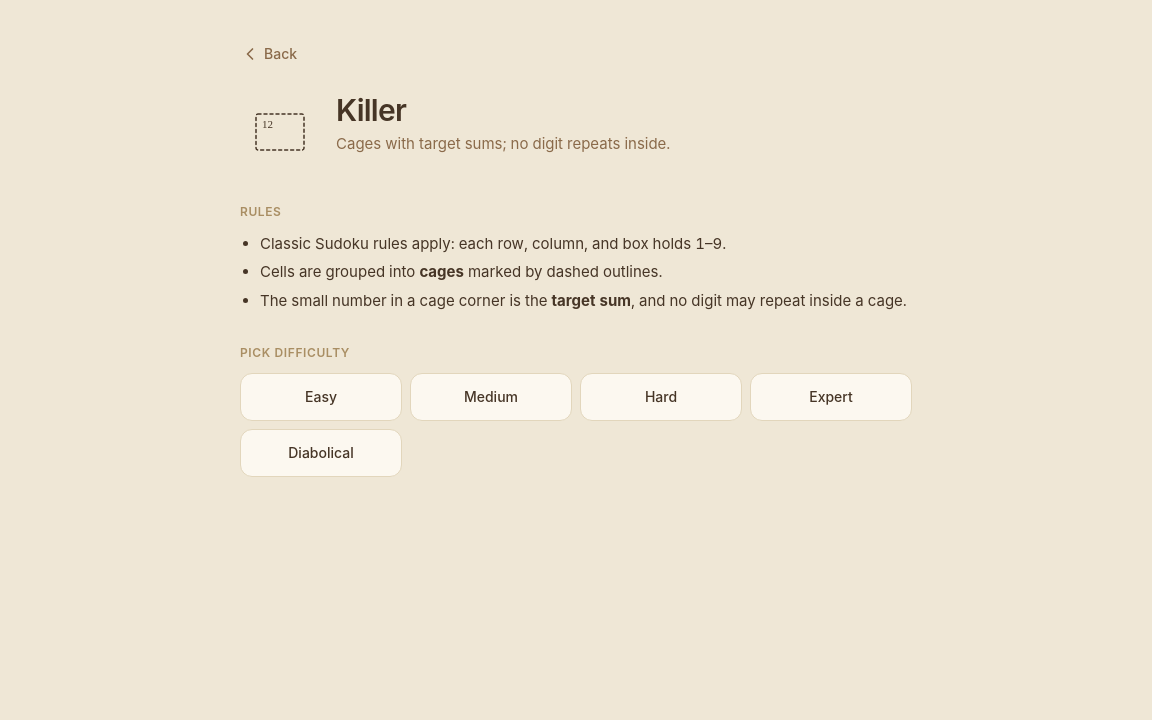
VariantDetail › first-play opens onboarding instead of navigating to /play
Click the button with test id "difficulty-easy". click: (321, 397)
box: [240,373,402,421]
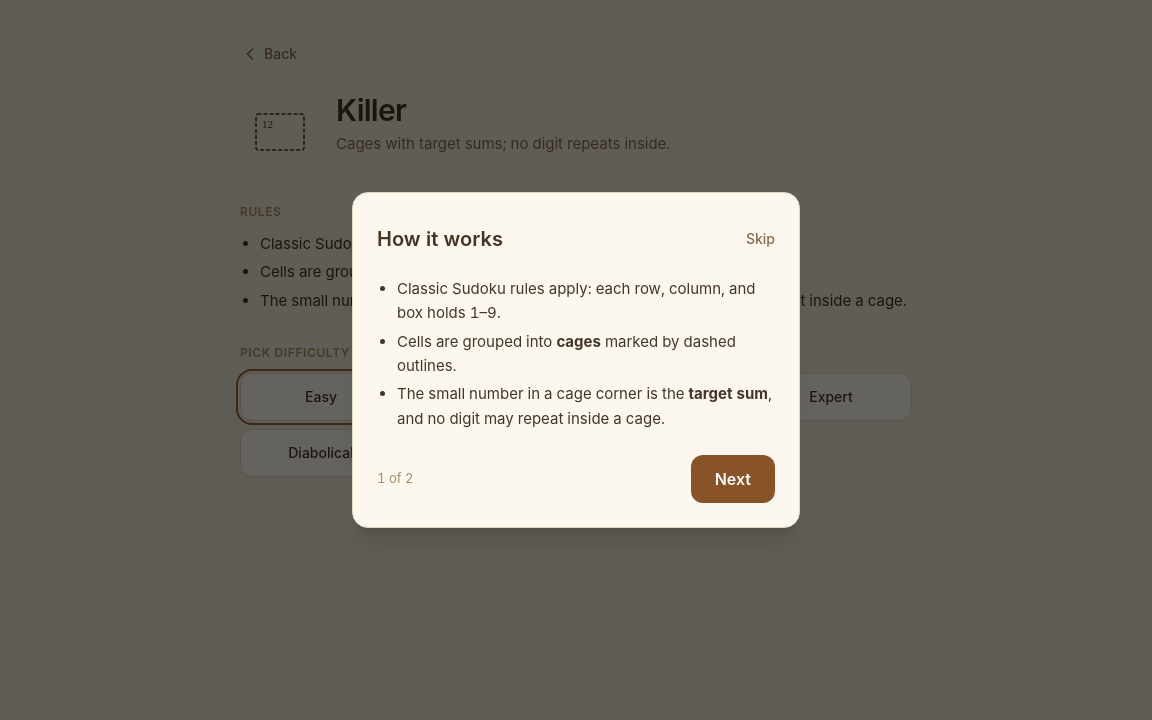
Expected: the dialog with test id "onboarding-modal" is shown, [352,192,800,528]
